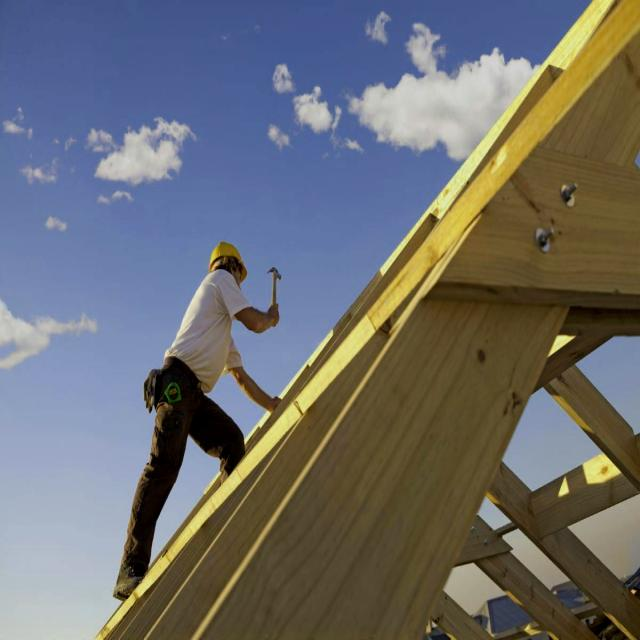hand_noglove: (263, 385, 291, 422), (265, 300, 279, 333)
head_helmet: (207, 242, 247, 278)
person: (95, 241, 262, 608)
